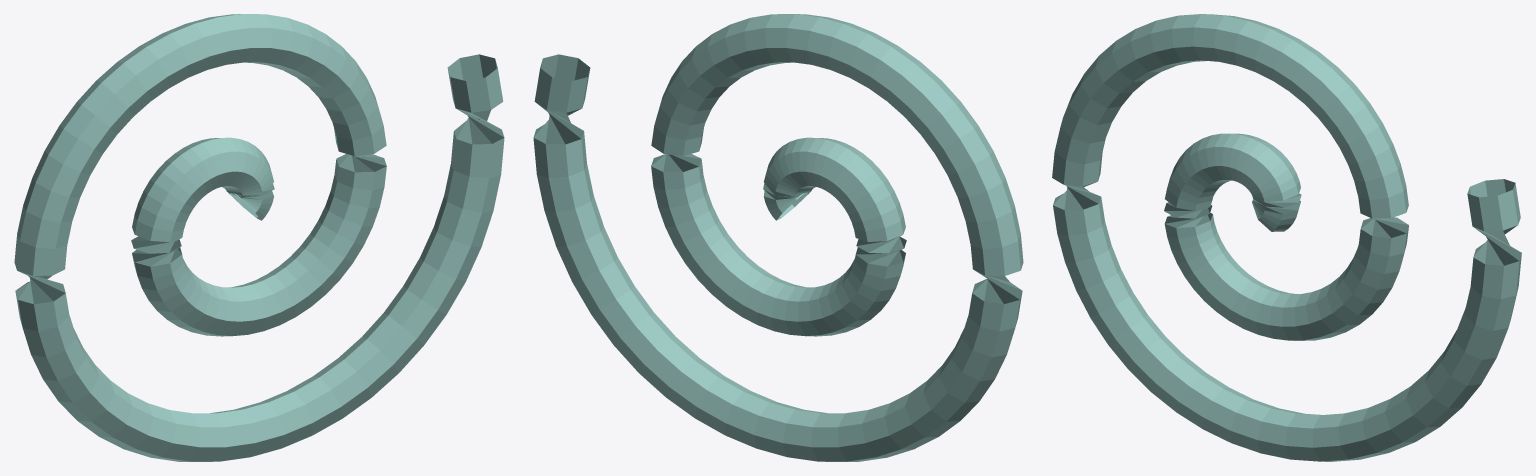
3 renders of one model, left to right at view 1: azimuth 30°, elevation 25°; view 2: azimuth 150°, elevation 25°; view 3: azimuth 330°, elevation 25°, orthographic. The views are drawn at different scales.
Parts seen in each view (by area): view 1: Spiral shell; view 2: Spiral shell; view 3: Spiral shell.
Part boxes in pixels (bbox=[...]): Spiral shell: bbox=[14, 14, 504, 461]; Spiral shell: bbox=[533, 14, 1023, 461]; Spiral shell: bbox=[1052, 14, 1521, 461].
Bounding box in the file's own units: 139 × 122 × 13.
